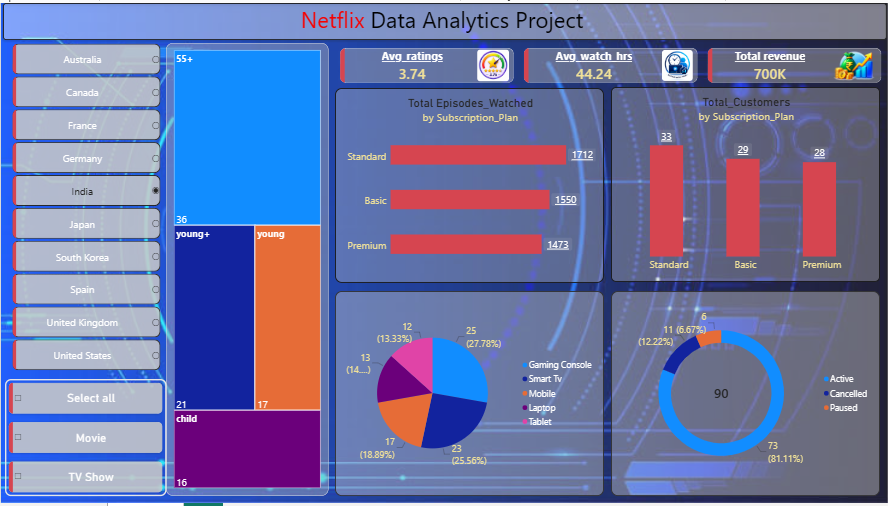

Layout of this report page (visuals, bound fields, positions):
{"tool":"powerbi","page":{"name":"Page 1","canvas":[1920,1080],"ordinal":0},"visuals":[{"type":"textbox","box":[4.3,0,1909.4,79.9],"z":0},{"type":"cardVisual","fields":{"Data":["clean_netflix_data.Avg_ratings","clean_netflix_data.Avg_watch_hrs","clean_netflix_data.Total revenue"]},"box":[721.4,86.4,1192.3,97.2],"z":1000},{"type":"columnChart","fields":{"Category":["clean_netflix_data.Subscription_Plan"],"Y":["clean_netflix_data.Total_Customers"]},"box":[1318.2,181.8,581,421.2],"z":2000},{"type":"treemap","fields":{"Values":["clean_netflix_data.Total_Customers"],"Group":["clean_netflix_data.Costmer_Age_Group"]},"box":[357.2,86.6,350.7,978.4],"z":3000},{"type":"donutChart","fields":{"Y":["clean_netflix_data.Total_Customers"],"Category":["clean_netflix_data.Account_Status"]},"box":[1317.6,622.1,581,442.8],"z":4000},{"type":"pieChart","fields":{"Category":["clean_netflix_data.Device"],"Y":["clean_netflix_data.Total_Customers"]},"box":[720.8,621.2,581,442.8],"z":5000},{"type":"clusteredBarChart","fields":{"Category":["clean_netflix_data.Subscription_Plan"],"Y":["Sum(clean_netflix_data.Episodes_Watched)"]},"box":[720.8,184,581,421.2],"z":6000},{"type":"listSlicer","fields":{"Values":["clean_netflix_data.Country"]},"box":[8.7,73.6,352.8,738.1],"z":7000},{"type":"advancedSlicerVisual","fields":{"Values":["clean_netflix_data.Content_Type"]},"box":[8.7,811.7,348.5,253.3],"z":8000}]}

Visuals, with their boxes in screenshot pixels (x1, y1, x2, y2), scaled from the page's 1920x1080 canvas onto the 888x506 screenshot:
textbox: [x1=2, y1=0, x2=885, y2=37]
cardVisual - clean_netflix_data.Avg_ratings x clean_netflix_data.Avg_watch_hrs: [x1=334, y1=40, x2=885, y2=86]
columnChart - clean_netflix_data.Subscription_Plan x clean_netflix_data.Total_Customers: [x1=610, y1=85, x2=878, y2=283]
treemap - clean_netflix_data.Total_Customers x clean_netflix_data.Costmer_Age_Group: [x1=165, y1=41, x2=327, y2=499]
donutChart - clean_netflix_data.Total_Customers x clean_netflix_data.Account_Status: [x1=609, y1=291, x2=878, y2=499]
pieChart - clean_netflix_data.Device x clean_netflix_data.Total_Customers: [x1=333, y1=291, x2=602, y2=499]
clusteredBarChart - clean_netflix_data.Subscription_Plan x Sum(clean_netflix_data.Episodes_Watched): [x1=333, y1=86, x2=602, y2=284]
listSlicer - clean_netflix_data.Country: [x1=4, y1=34, x2=167, y2=380]
advancedSlicerVisual - clean_netflix_data.Content_Type: [x1=4, y1=380, x2=165, y2=499]
